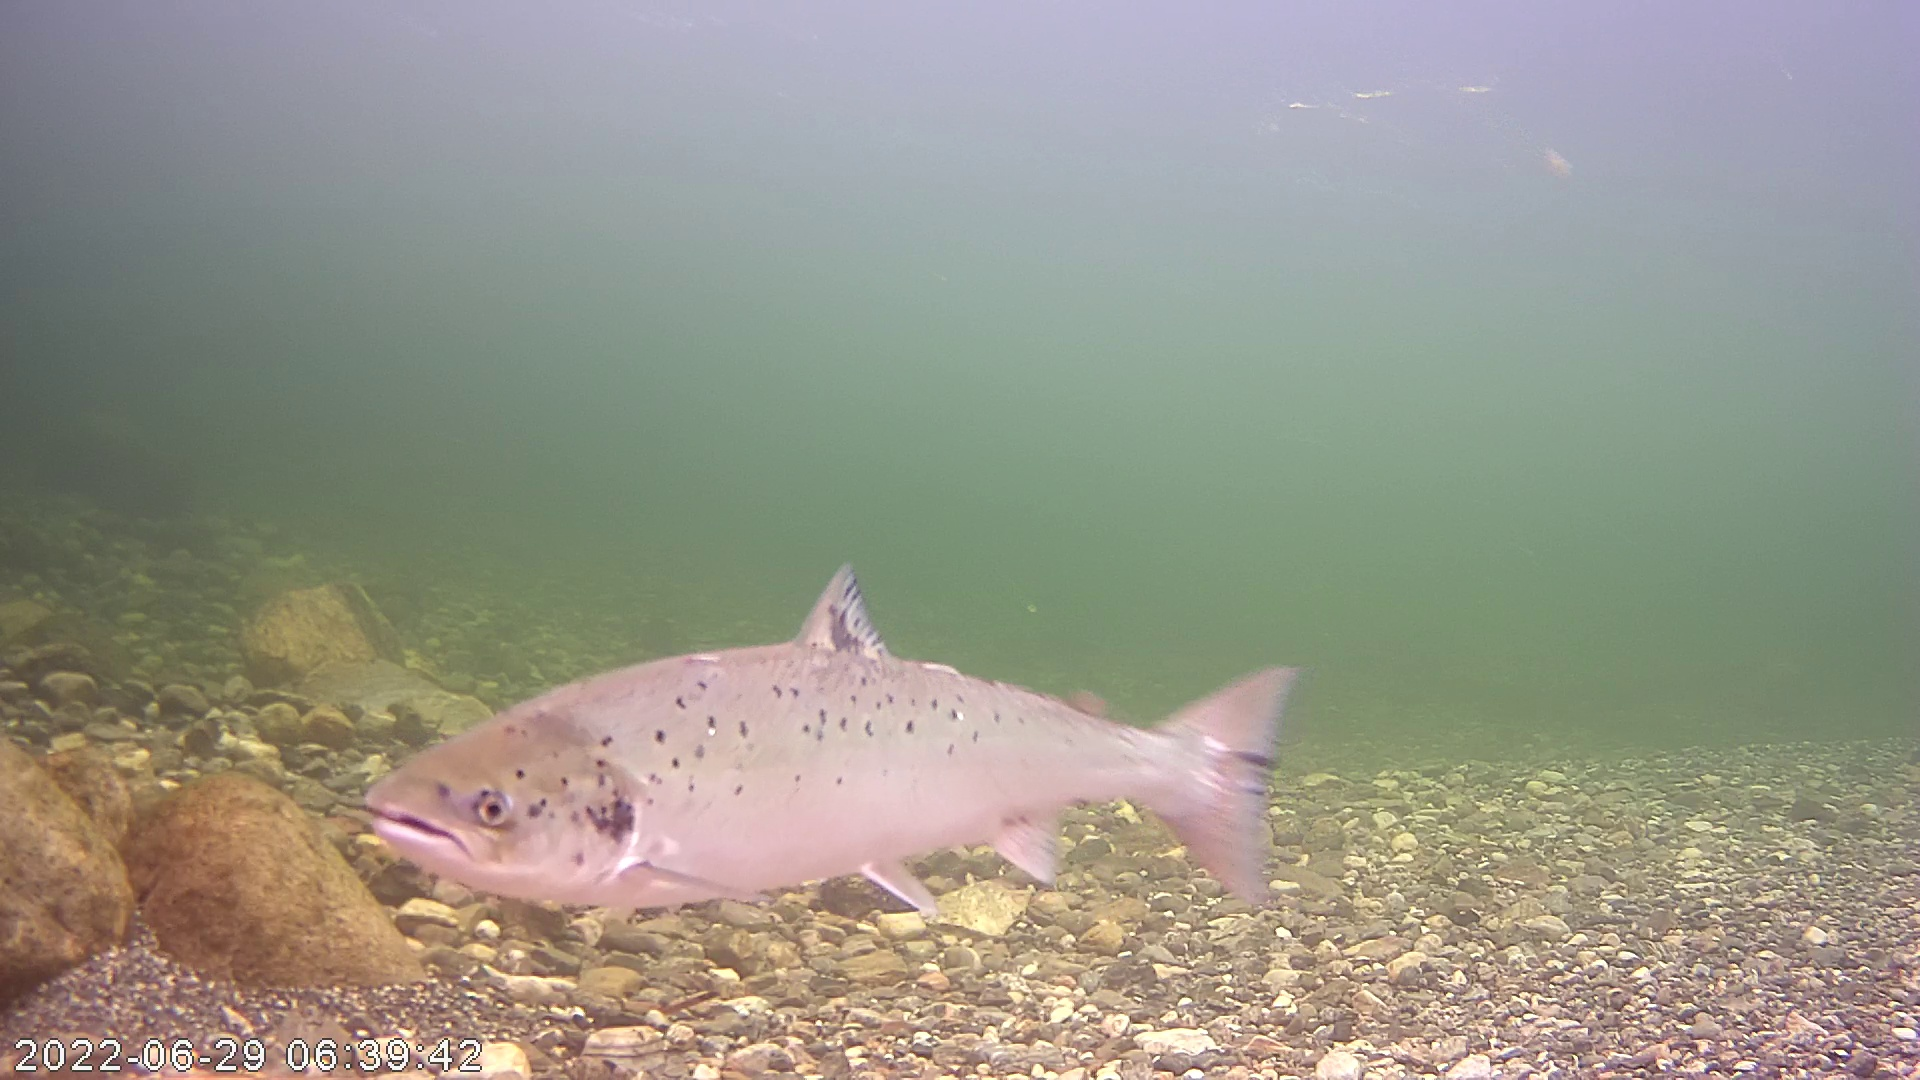salmon: (364, 522, 1305, 930)
